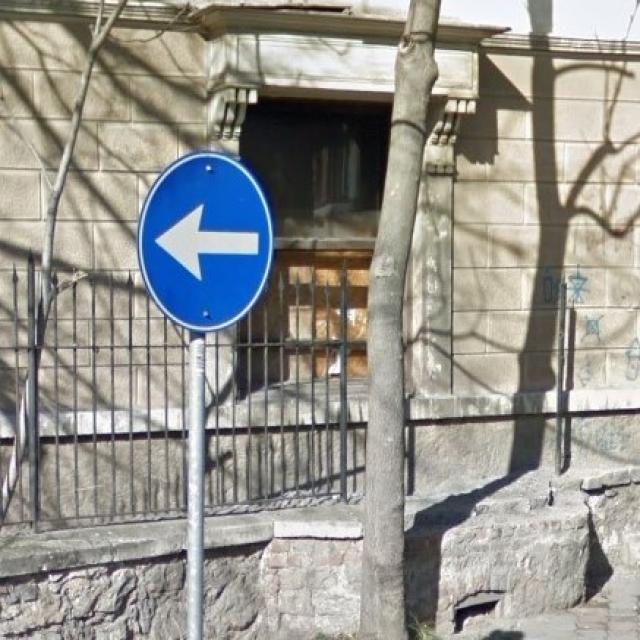Turn Left: (131, 154, 271, 332)
